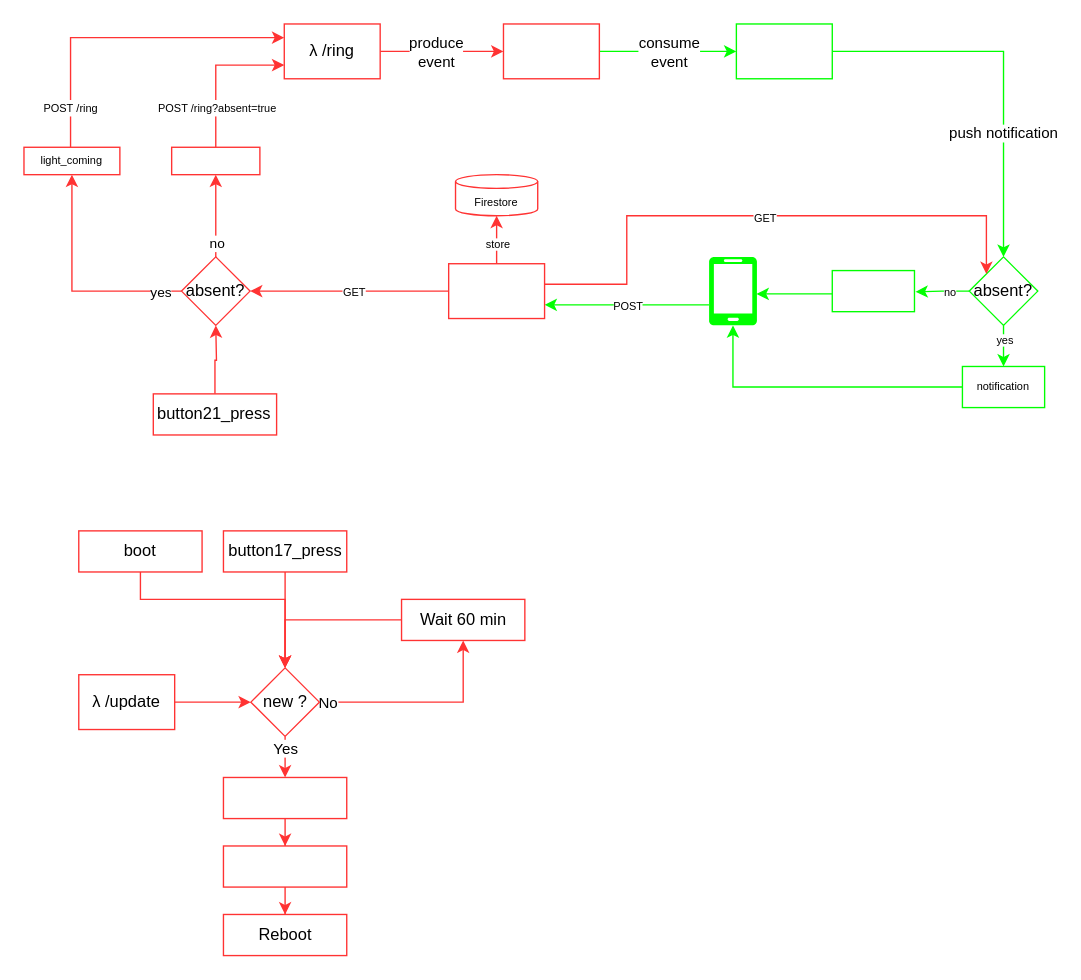
Image size: 1081x980. Some labels were removed from this diagram. Here are the shapes that lost their labels. From the top down, the box of each, then its label:
(502, 23, 599, 79): MQ
(735, 23, 832, 79): FCM
(170, 146, 260, 175): light_absent
(447, 262, 545, 319): λ /absent
(831, 269, 914, 312): ring phone
(222, 776, 347, 819): Download Firmware
(222, 845, 347, 887): Update Firmware
